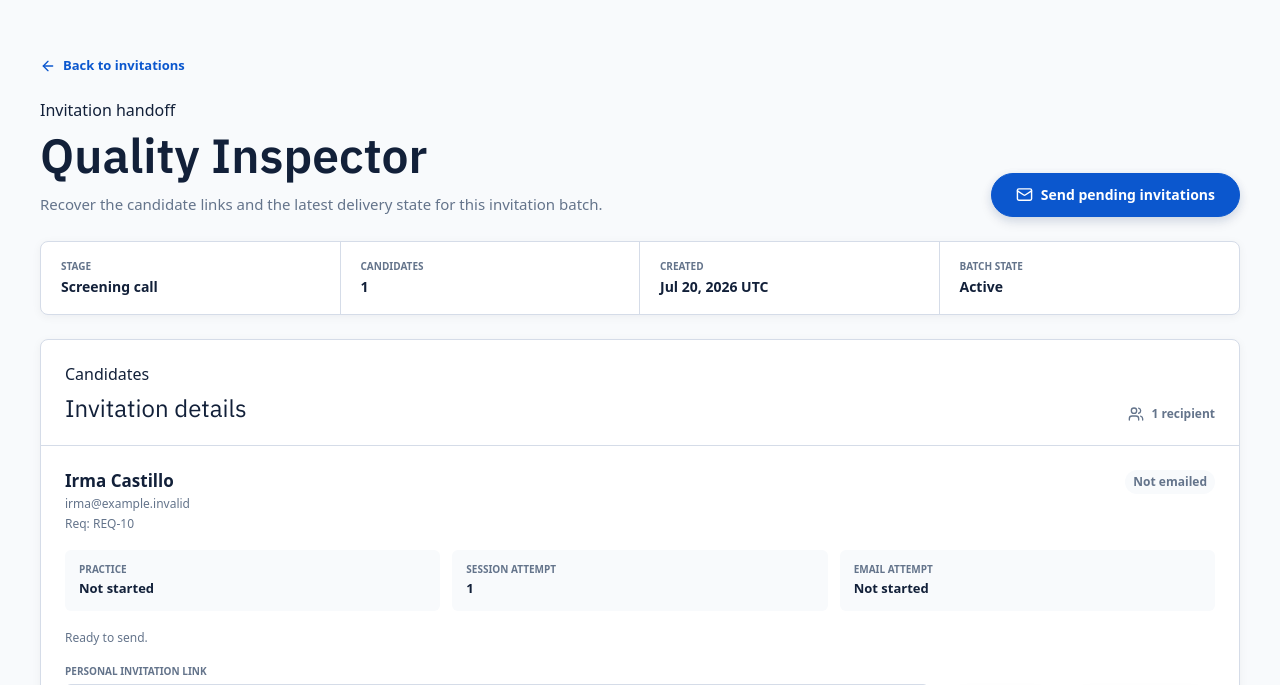
Scenario: RecruiterInvitationHandoffExperience › posts one batch action key and refreshes from the durable ledger
Click the button "Send pending invitations" at (1115, 195), box [991,173,1240,217]
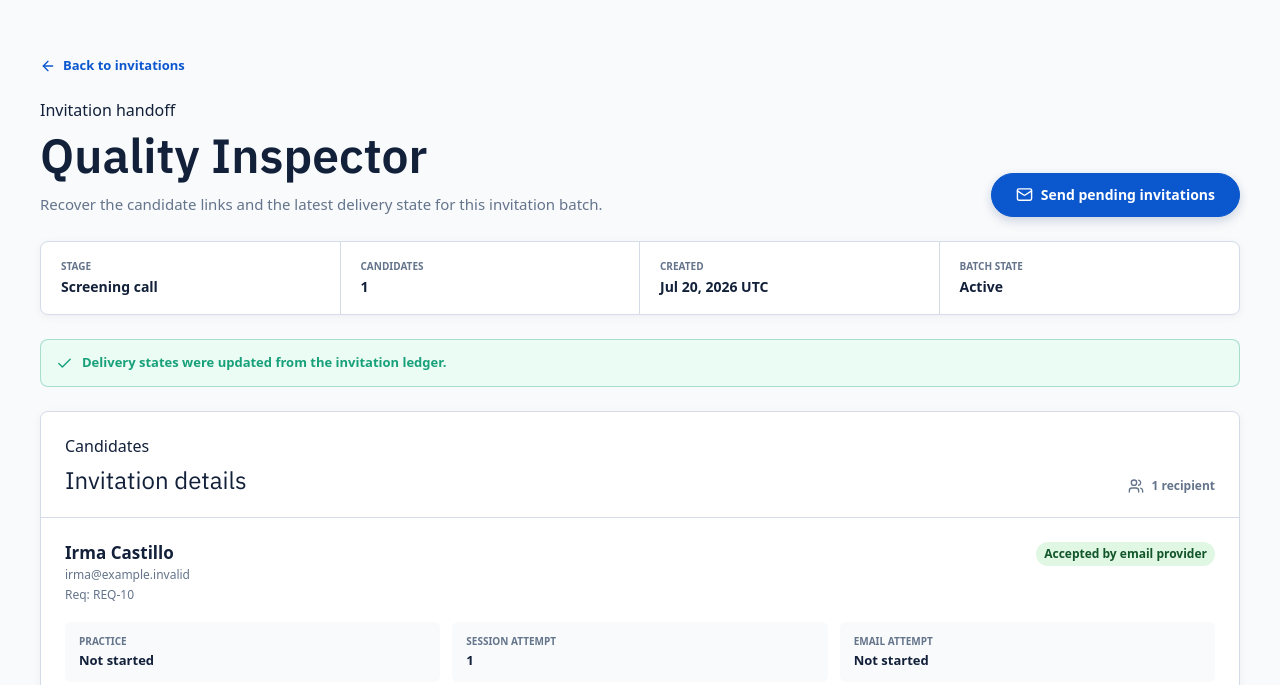
Now the text "Accepted by email provider" is shown, box [1036,542,1215,566]
